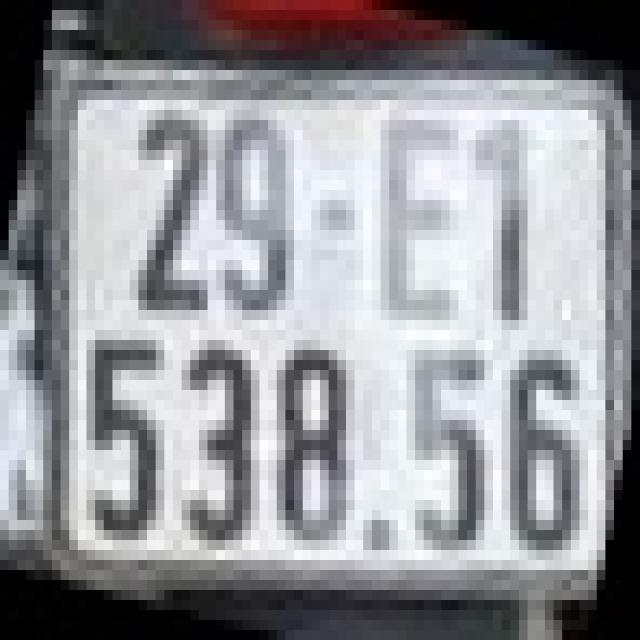1: (476, 120, 536, 320)
2: (138, 110, 208, 310)
3: (182, 350, 250, 540)
5: (86, 340, 164, 540), (406, 350, 484, 550)
6: (510, 350, 580, 550)
8: (277, 350, 346, 540)
9: (216, 120, 294, 310)
E: (381, 120, 458, 320)
